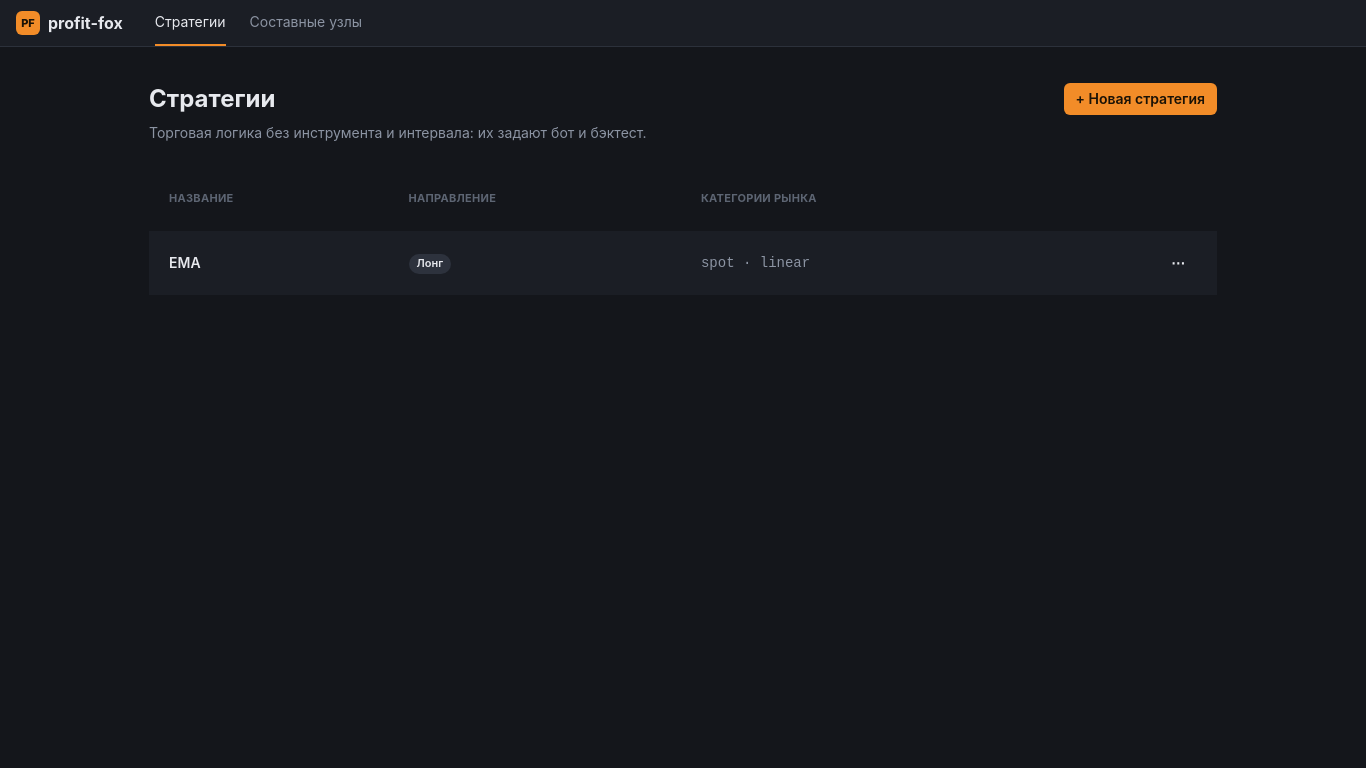
Scenario: strategy list actions › keeps a strategy that has bots and names them
Step 1. Click the button "⋯" → click(1178, 263), box [1159,247,1197,279]
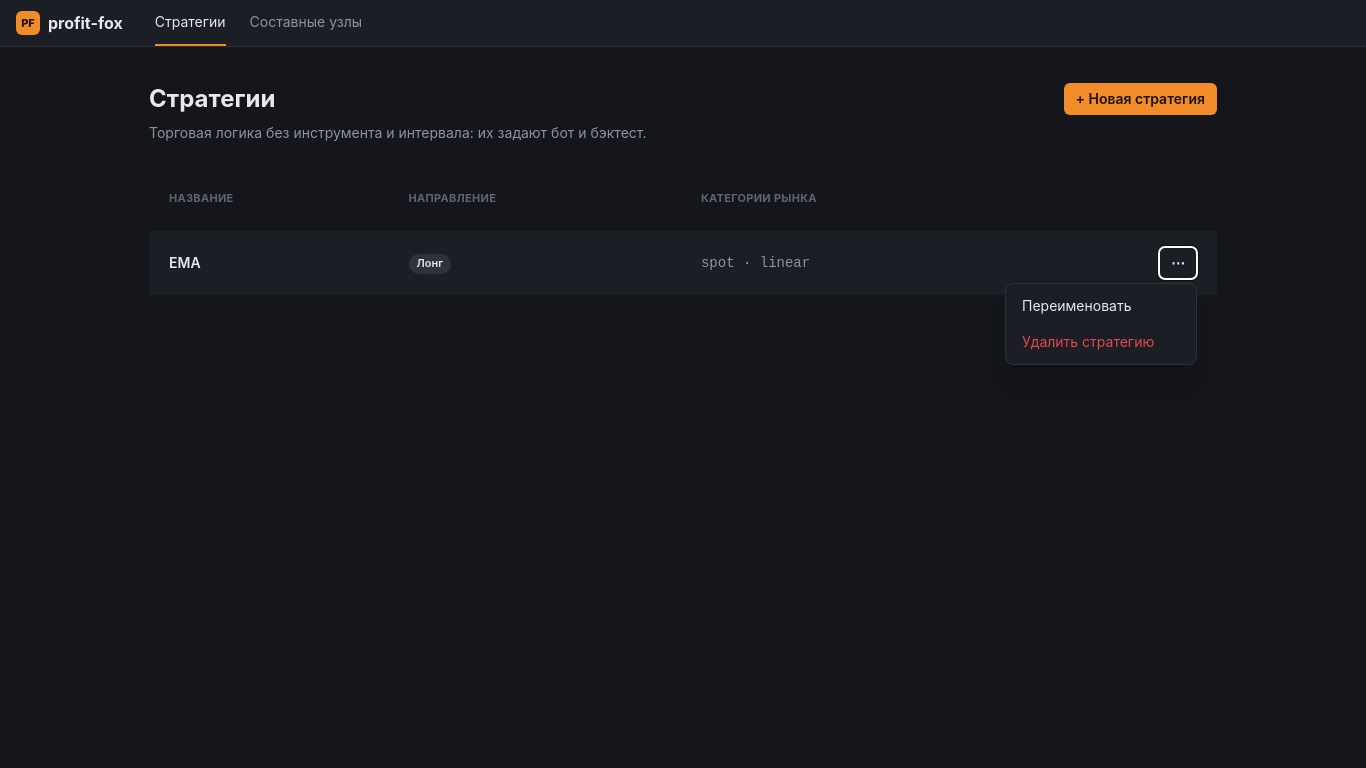
Step 2. Click the menu item "Удалить стратегию" → click(1101, 342), box [1010,324,1192,360]
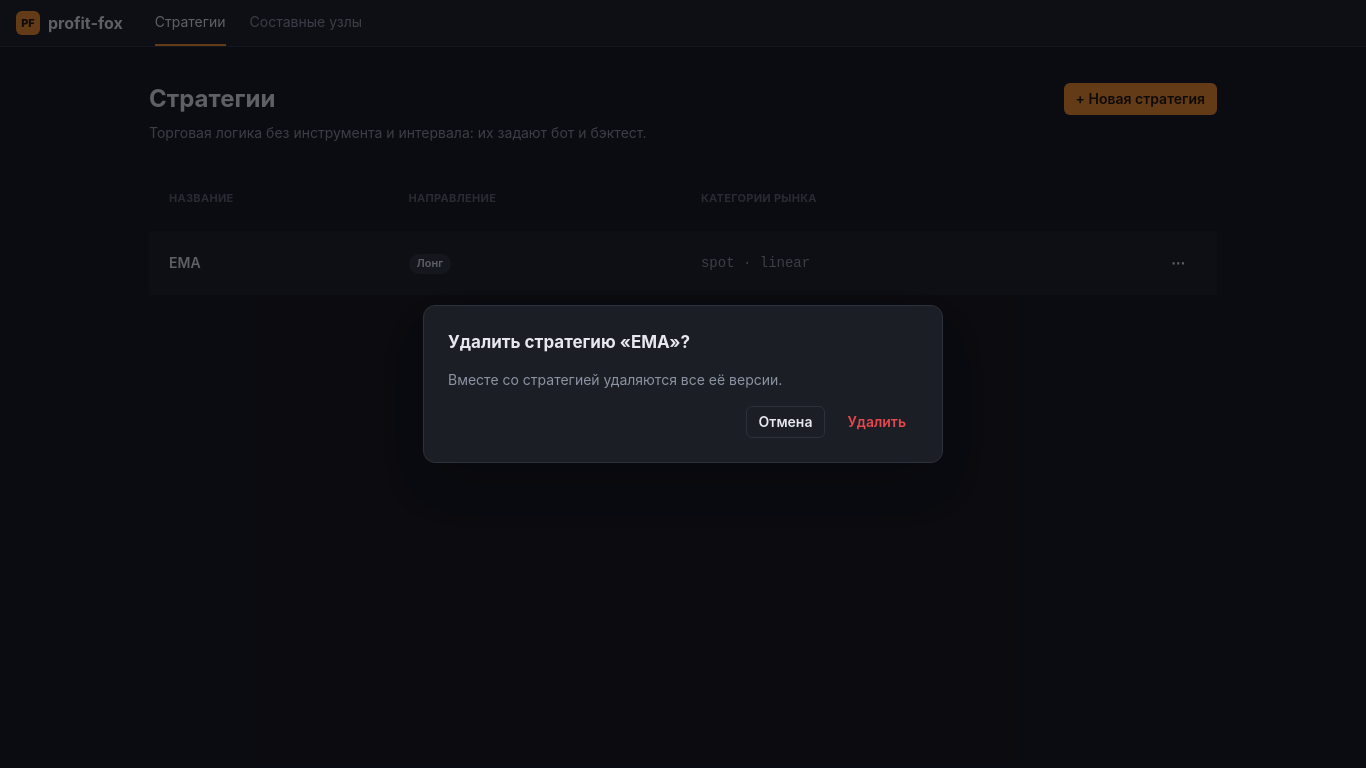
Step 3. Click the button "Удалить" → click(877, 422), box [835,406,918,438]
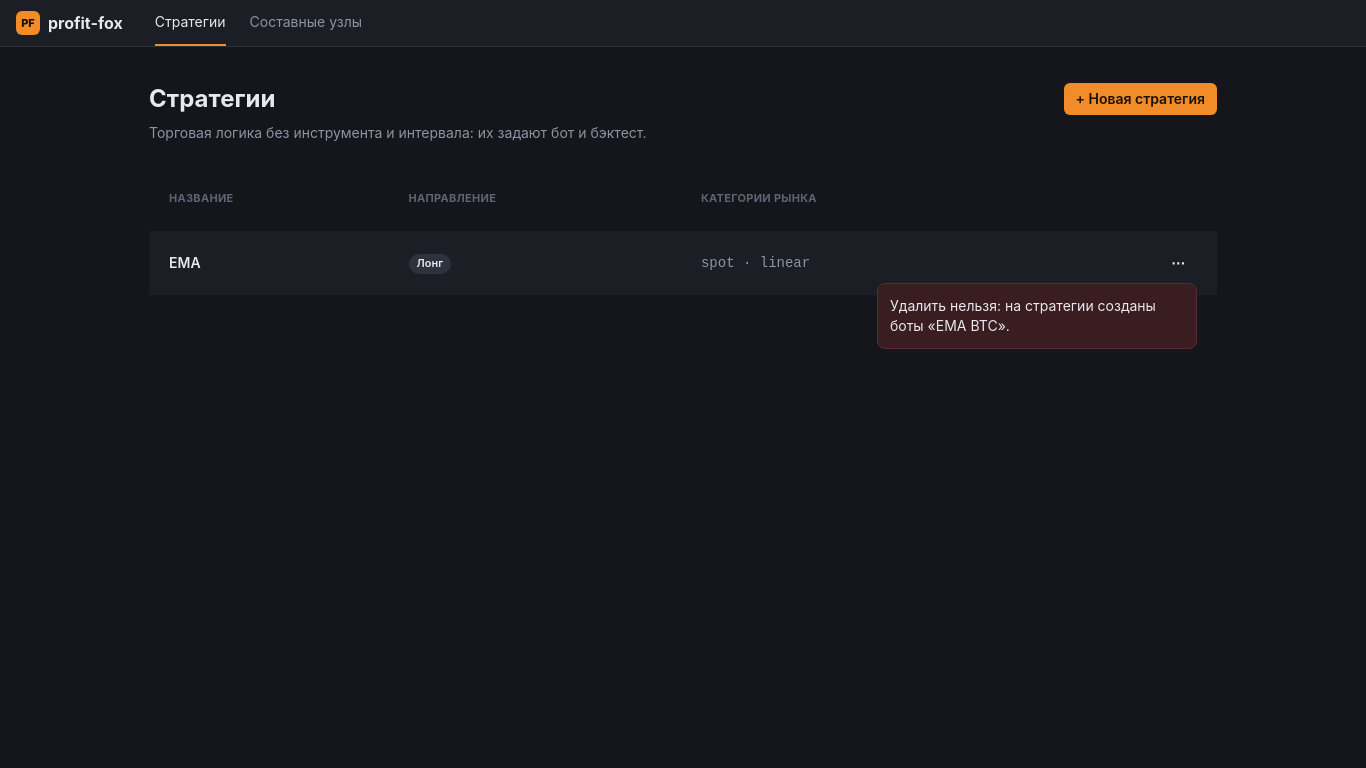
Expected: the link "EMA" is shown, [169,253,201,273]
Now the message shows "Удалить нельзя", box [890,297,1156,334]
Now the message shows "EMA BTC", box [890,297,1156,334]
